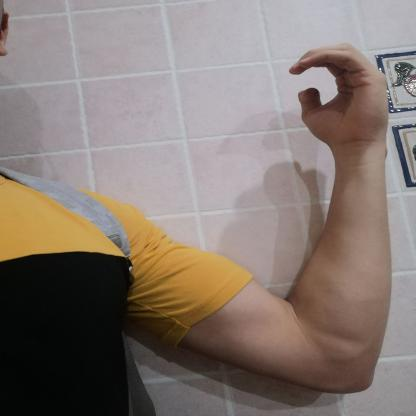JEEM: (270, 33, 401, 157)
